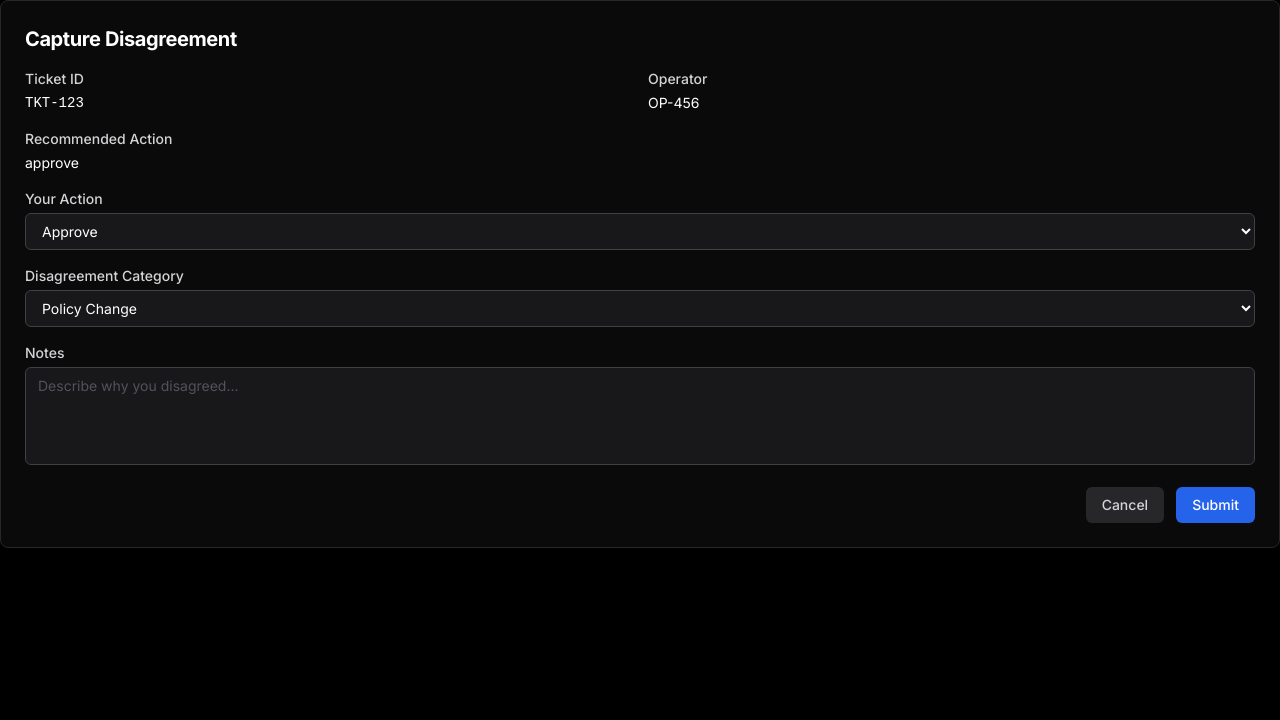
Test case: DisagreementForm › interactions › disables the Submit button while submitting
Step 1. Click the button "Submit" → (1216, 505), box top-left (1176, 487), bottom-right (1255, 523)
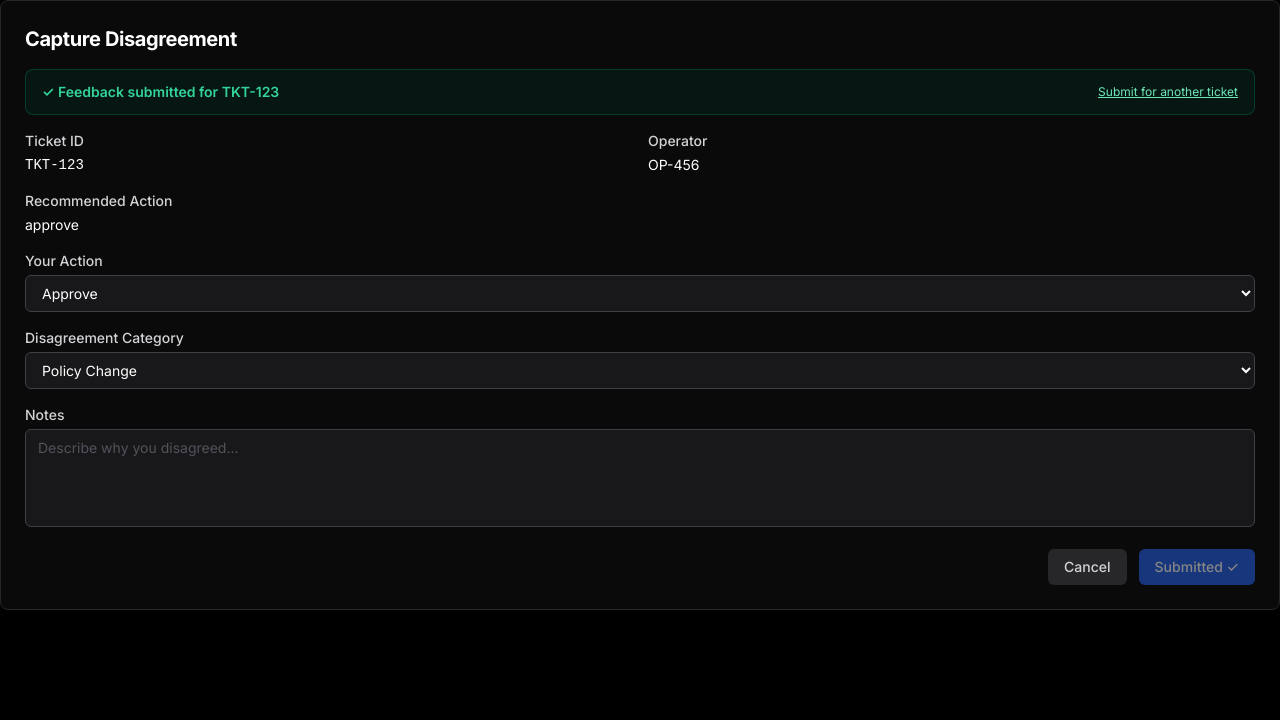
Expected: the button named "submitting" is disabled, top-left (1139, 549), bottom-right (1255, 585)
